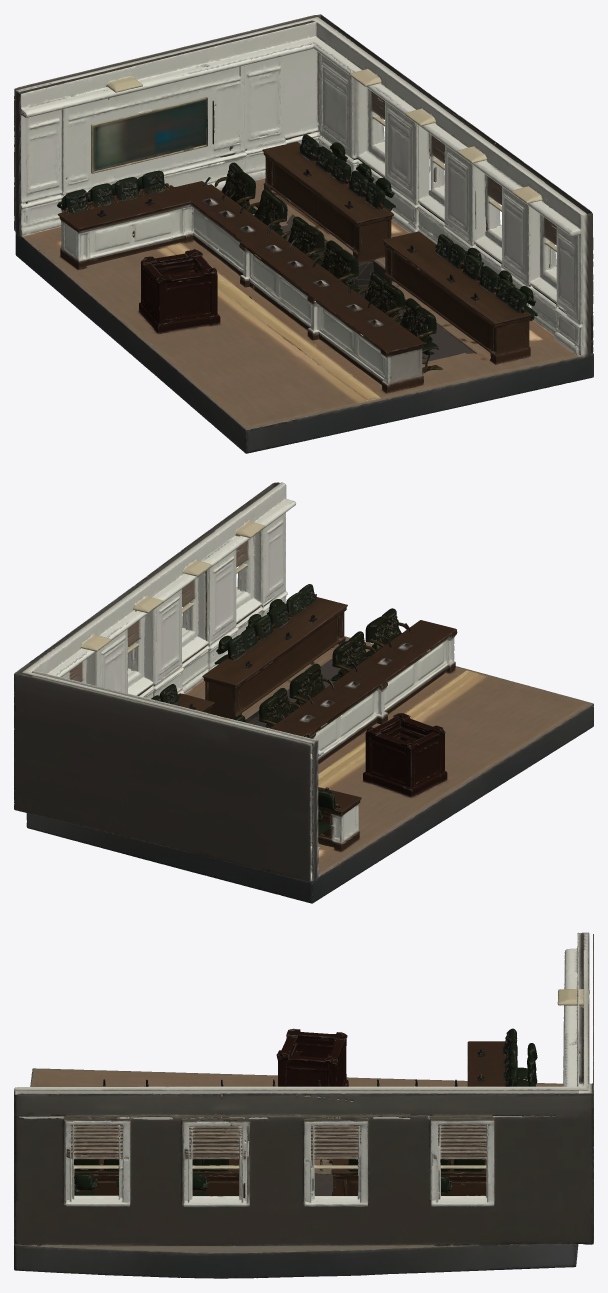
File: matrouh-university-3.glb
The picture shows the model from 3 angles, top to bottom: view 1: azimuth 30°, elevation 25°; view 2: azimuth 150°, elevation 25°; view 3: azimuth 270°, elevation 25°; orthographic projection. The views are drawn at different scales.
Size of the model in its own units: 0.7581 by 0.3389 by 1.
Materials: 1 (1 with a texture image).
